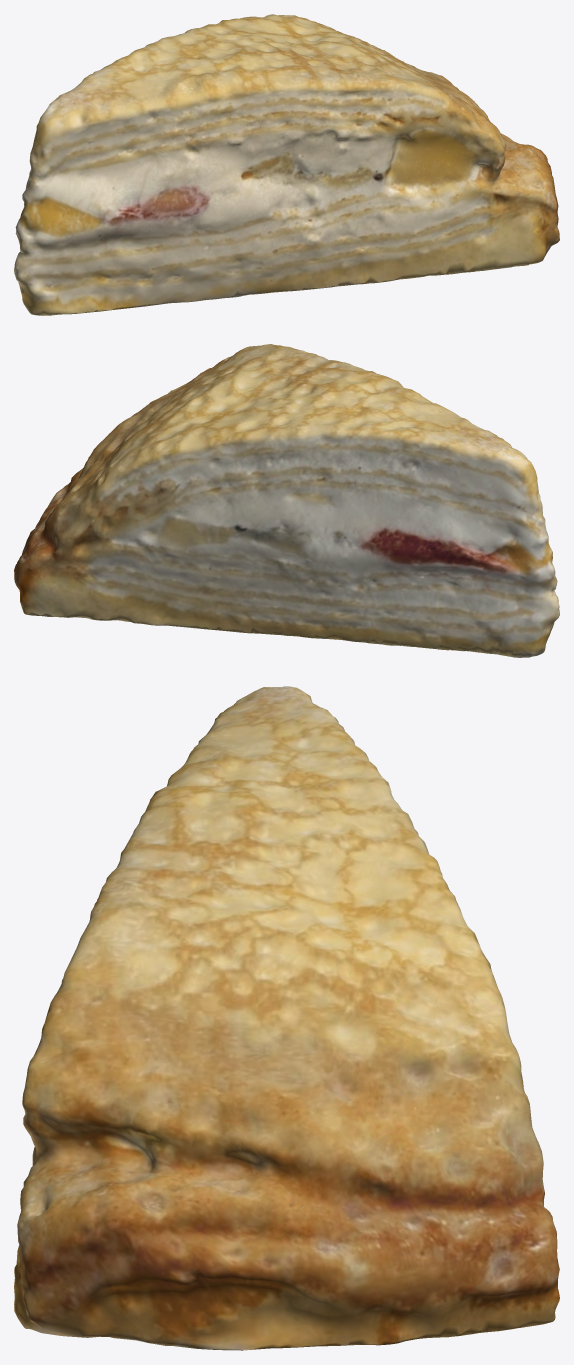
3 renders of one model, top to bottom at view 1: azimuth 30°, elevation 25°; view 2: azimuth 150°, elevation 25°; view 3: azimuth 270°, elevation 25°, orthographic. The views are drawn at different scales.
Visible parts, largest first — view 1: ObjectCapture_5; view 2: ObjectCapture_5; view 3: ObjectCapture_5.
Boxes of the visible parts, x1,y1,x2,y2 form: ObjectCapture_5: (14,14,559,315); ObjectCapture_5: (14,344,559,657); ObjectCapture_5: (14,686,559,1350).
Bounding box in the file's own units: 0.1165 × 0.0484 × 0.0694.
1 material, 1 textured.
